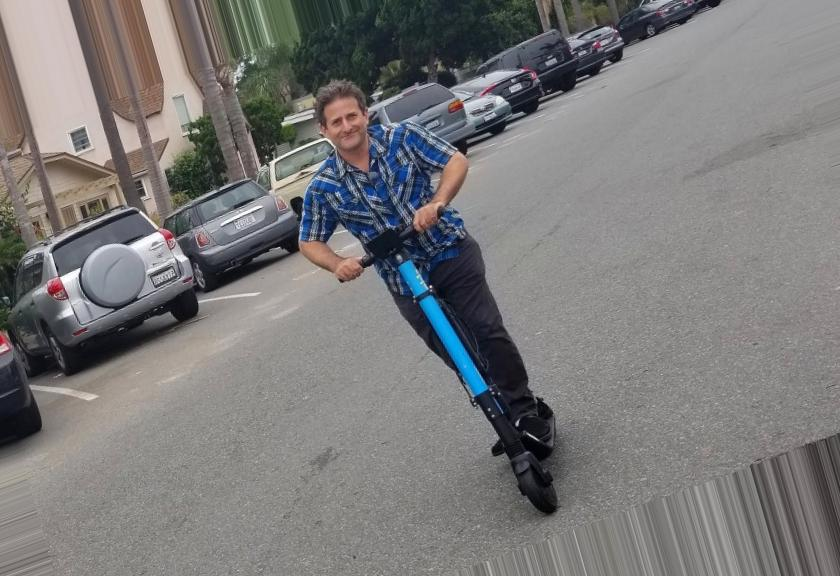scooter: (339, 206, 557, 515)
